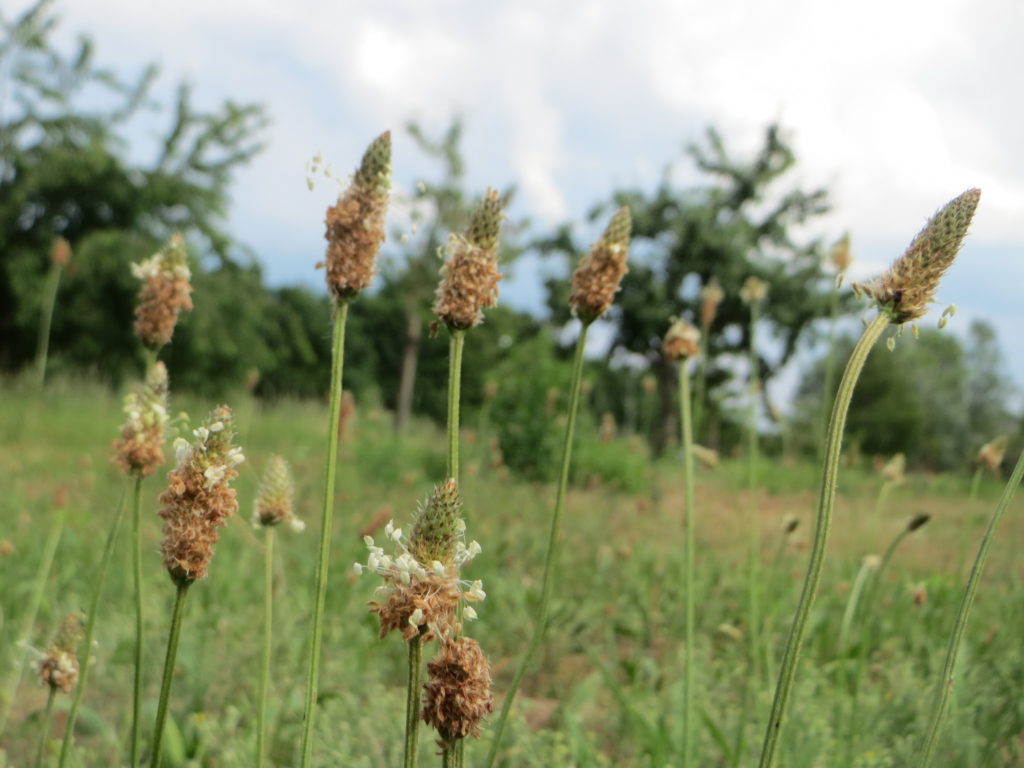buckhorn plantain: (109, 126, 993, 736)
